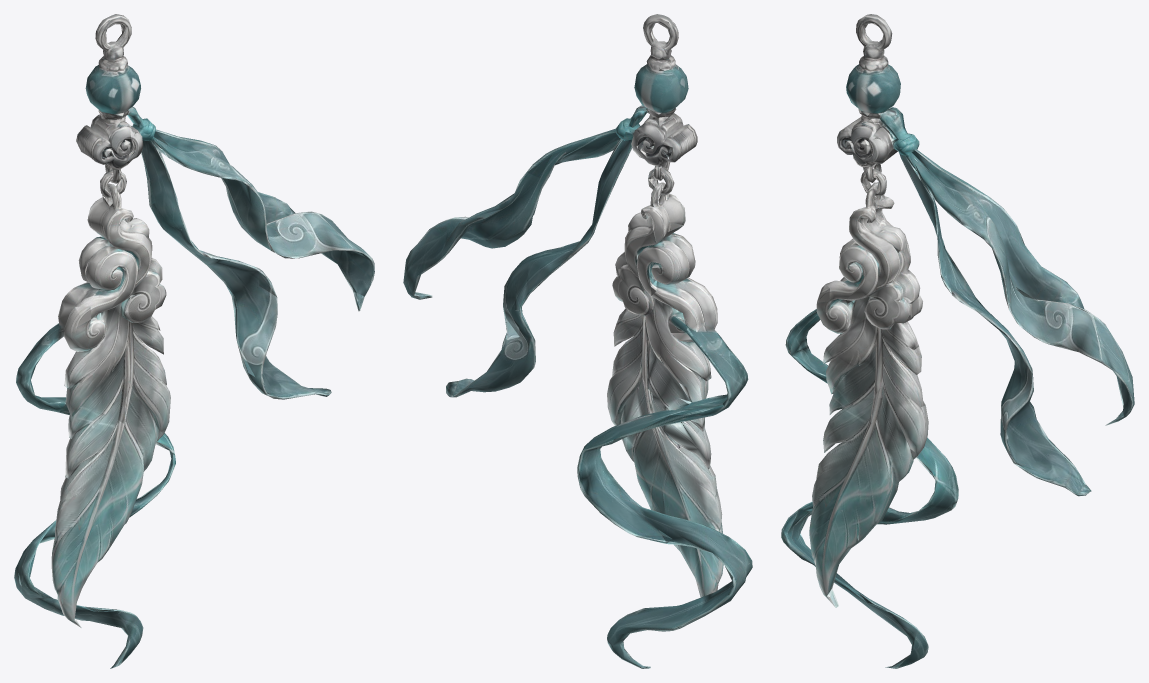
The model's file is set-wind-charm.glb.
3 renders of one model, left to right at view 1: azimuth 30°, elevation 25°; view 2: azimuth 150°, elevation 25°; view 3: azimuth 330°, elevation 25°, orthographic.
Visible parts, largest first — view 1: Motion_Control; view 2: Motion_Control; view 3: Motion_Control.
Part boxes in pixels (<box>): Motion_Control: <box>14,14,374,668</box>; Motion_Control: <box>403,14,752,668</box>; Motion_Control: <box>781,14,1134,668</box>.
Bounding box in the file's own units: 1.11 × 2 × 0.1806.
Materials: 1 (1 with a texture image).
